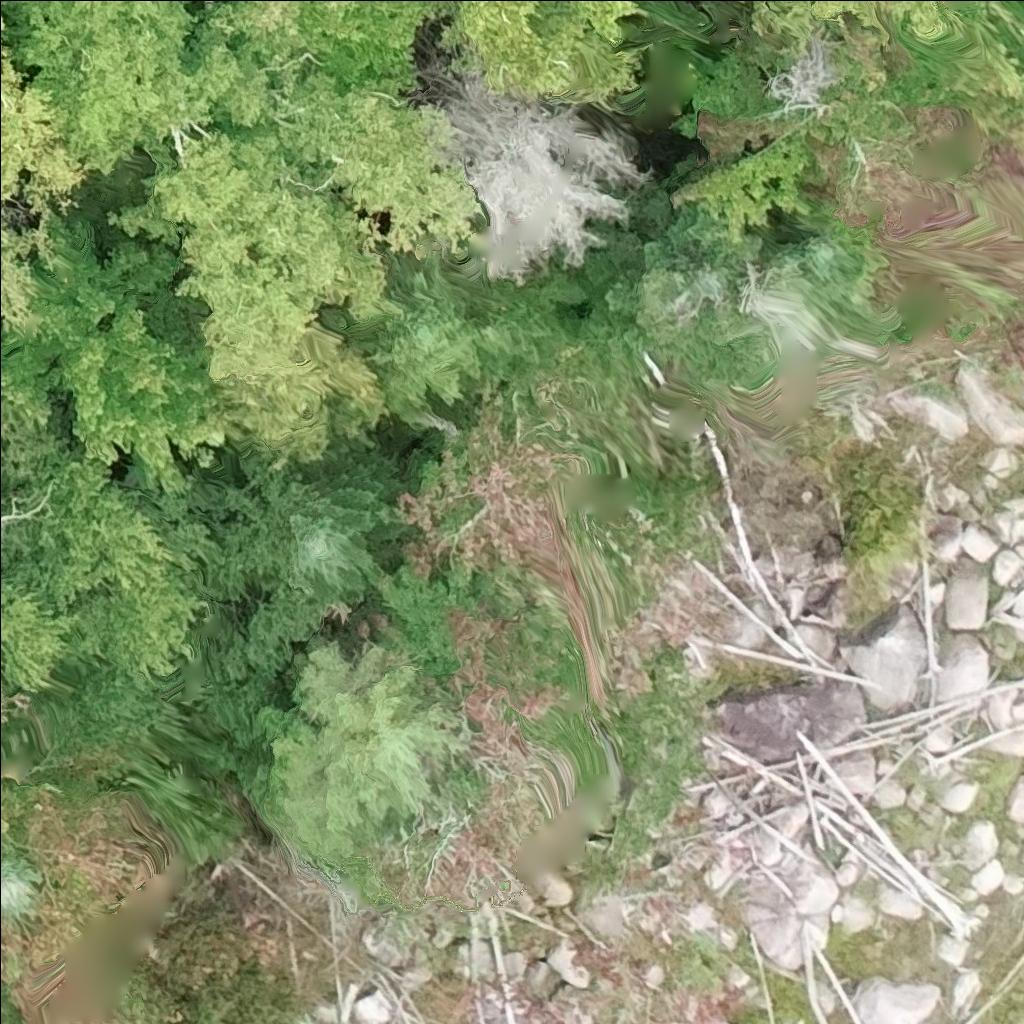crown: (104, 126, 405, 382), (0, 210, 227, 496), (213, 44, 485, 260), (0, 448, 234, 690), (252, 624, 464, 860), (320, 251, 592, 428), (439, 70, 650, 289), (0, 0, 242, 175), (222, 448, 410, 664), (185, 0, 440, 93), (427, 0, 650, 98), (0, 39, 86, 219), (736, 0, 945, 39), (0, 207, 57, 326), (0, 847, 44, 915), (0, 0, 11, 41)
